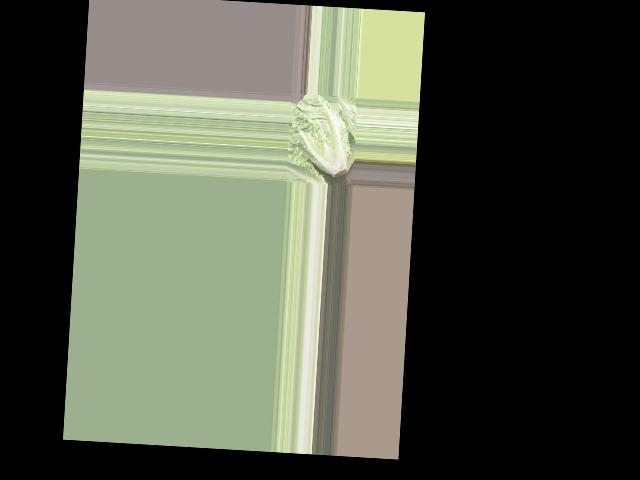lettuce: (290, 94, 359, 181)
